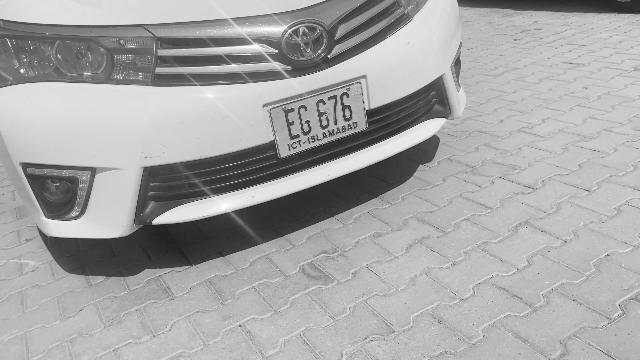Number: (279, 89, 357, 143)
